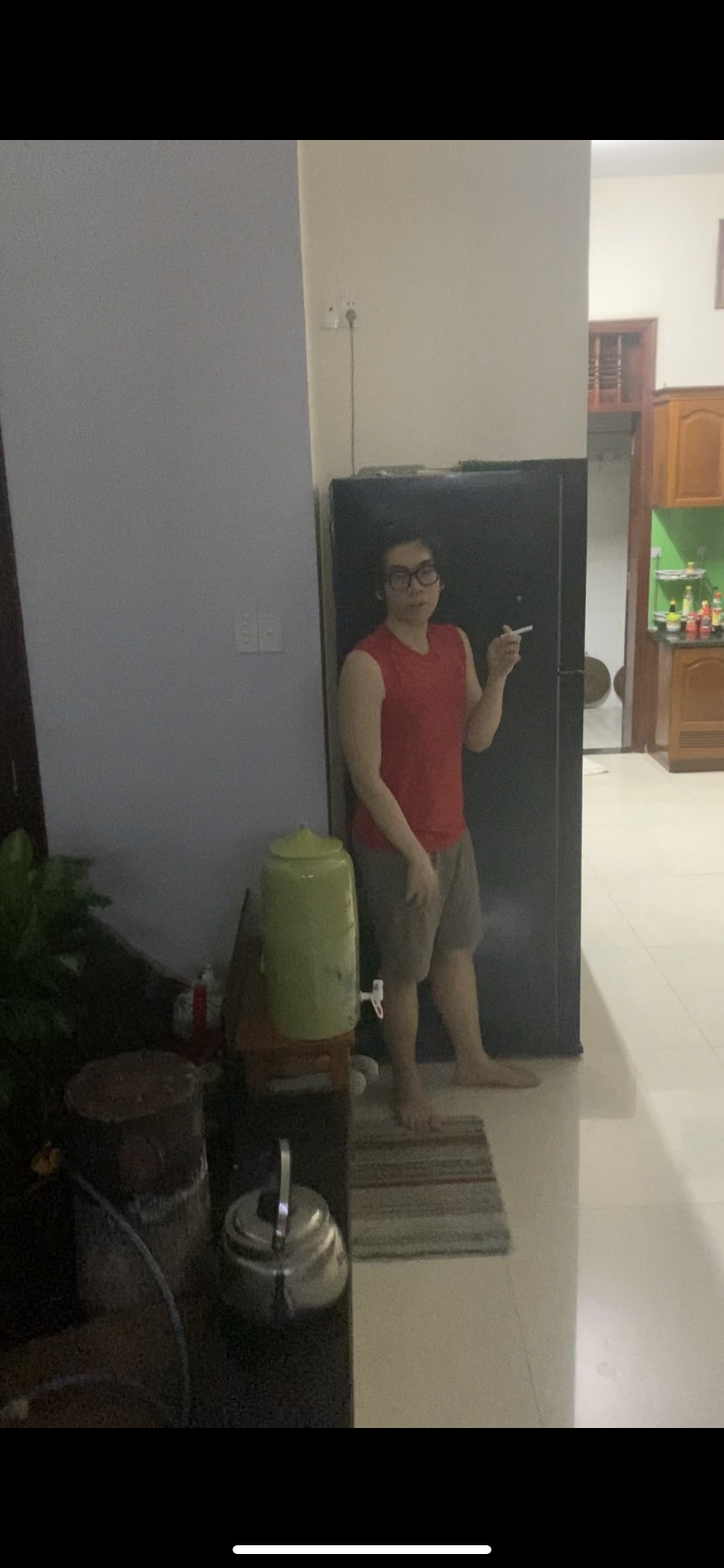cigarette: (514, 620, 537, 637)
person: (337, 528, 535, 1106)
